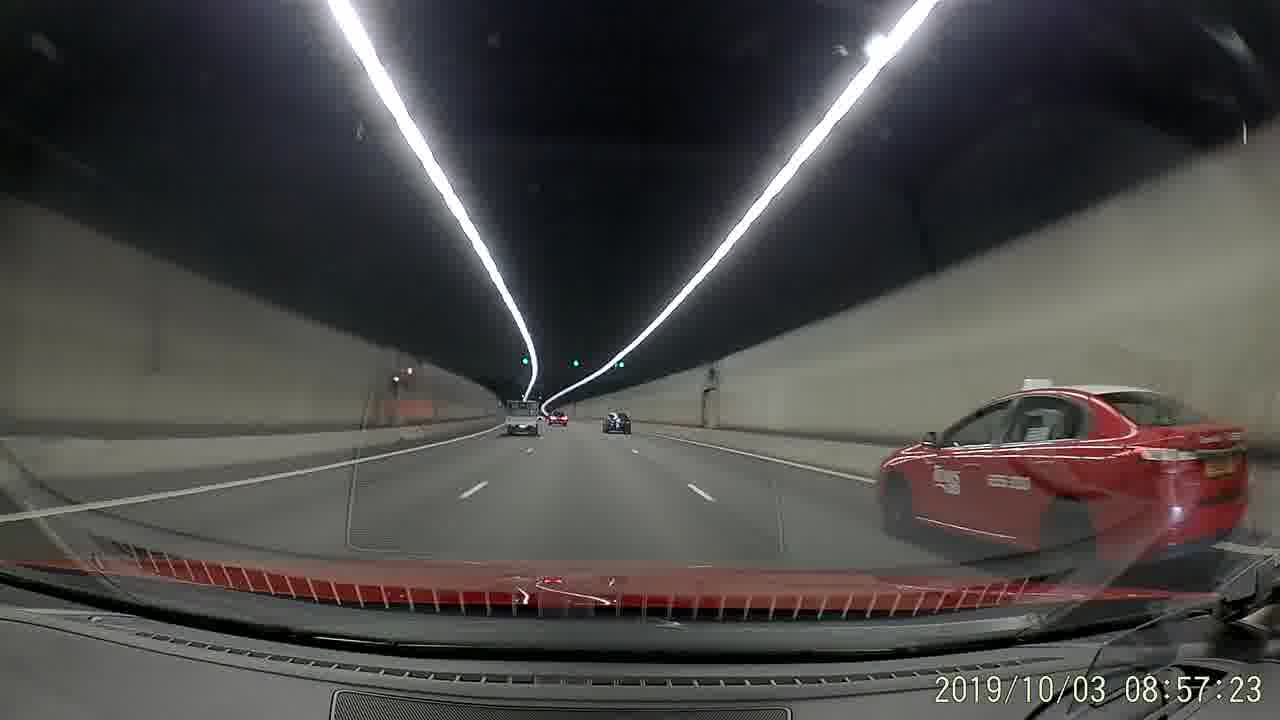car: (871, 380, 1251, 570), (602, 409, 632, 434), (545, 407, 568, 427)
